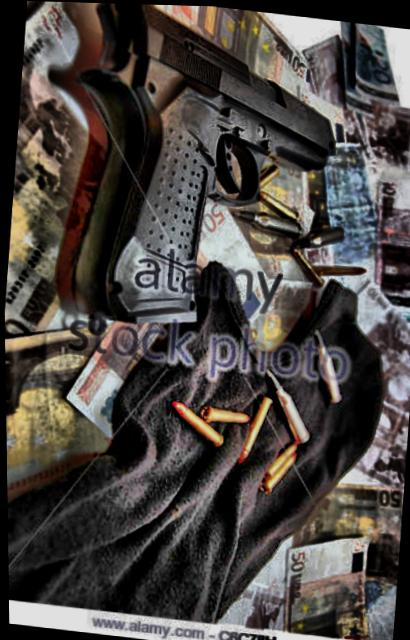pistol: (50, 1, 348, 345)
